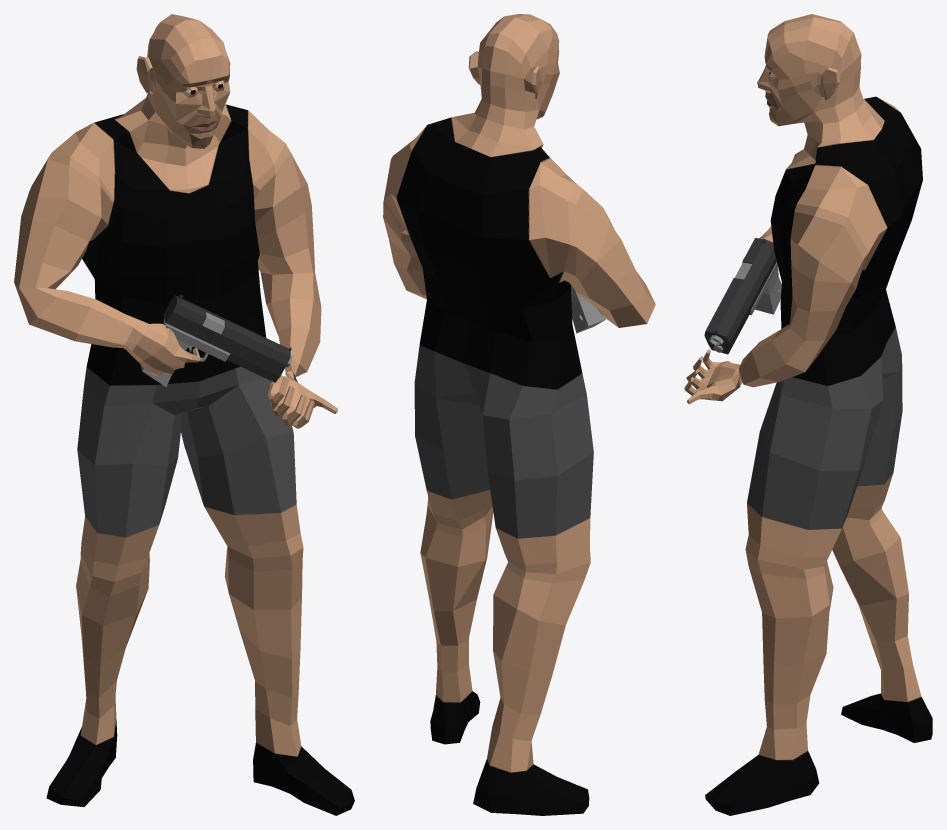
Rendered from PlayerIdle(28).obj.
3 renders of one model, left to right at view 1: azimuth 30°, elevation 25°; view 2: azimuth 150°, elevation 25°; view 3: azimuth 270°, elevation 25°, orthographic. The views are drawn at different scales.
Parts seen in each view (by area): view 1: Plane002, Box003; view 2: Plane002, Box003; view 3: Plane002, Box003.
Part boxes in pixels (<box>): Plane002: <box>14,14,354,815</box>; Box003: <box>140,295,292,386</box>; Plane002: <box>383,14,655,815</box>; Box003: <box>571,286,606,333</box>; Plane002: <box>684,14,932,815</box>; Box003: <box>704,238,781,354</box>.
Size of the model in its own units: 676 by 1809 by 550.
